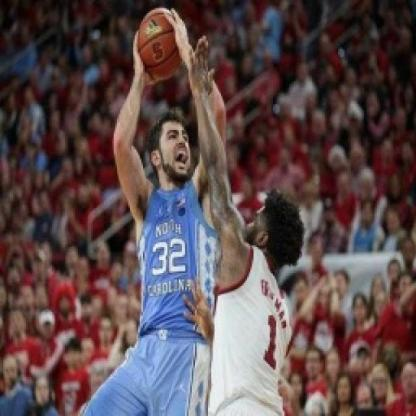basketball: (132, 2, 188, 76)
